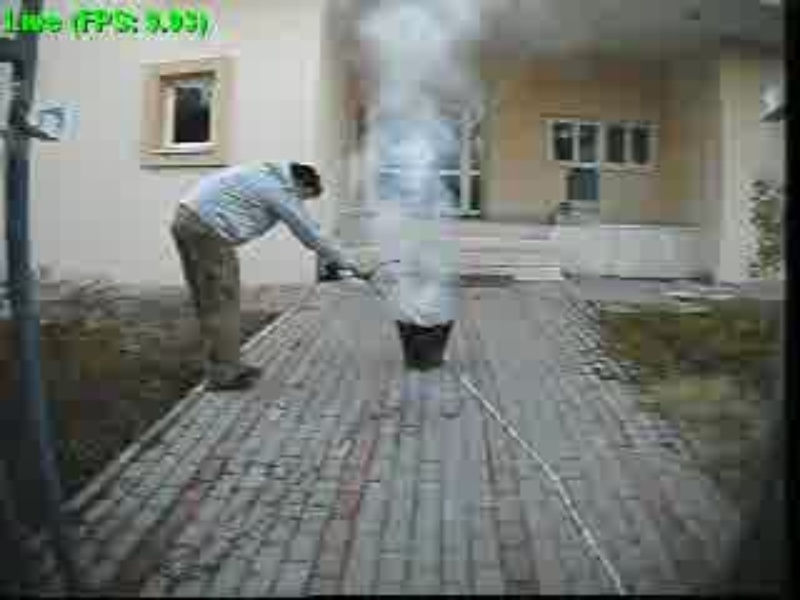smoke: (366, 1, 452, 319)
